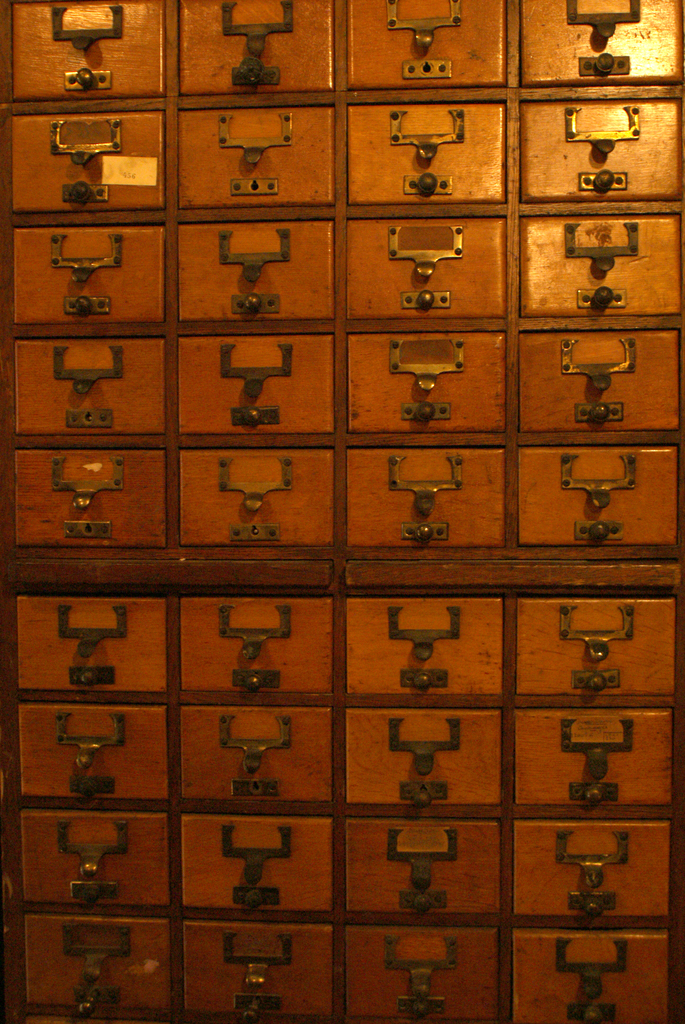cabinet door: (515, 593, 676, 704), (520, 442, 675, 556), (515, 98, 679, 203), (352, 219, 504, 329), (344, 704, 500, 811), (515, 819, 672, 924), (20, 801, 170, 907), (23, 909, 170, 1017), (350, 329, 505, 430), (520, 330, 676, 430), (511, 710, 672, 806), (523, 222, 680, 317), (16, 594, 166, 693), (183, 596, 328, 698), (346, 821, 500, 917), (16, 117, 165, 216), (181, 819, 331, 917), (350, 599, 500, 697), (20, 700, 169, 798), (509, 934, 671, 1024), (179, 337, 329, 434), (186, 705, 330, 806), (343, 930, 497, 1024), (179, 105, 333, 198), (348, 110, 502, 201), (186, 922, 330, 1018), (348, 458, 505, 546), (17, 233, 164, 326), (186, 452, 327, 548), (10, 457, 167, 542), (180, 230, 333, 317), (12, 344, 163, 431), (182, 7, 331, 92), (16, 17, 162, 101), (523, 4, 676, 77), (352, 3, 504, 74)
handle: (594, 159, 615, 201), (593, 279, 615, 319), (241, 290, 264, 326), (416, 782, 437, 821), (416, 172, 437, 205), (415, 515, 433, 552), (240, 886, 263, 913), (74, 178, 92, 212), (415, 280, 433, 314), (77, 67, 97, 97), (245, 64, 261, 100), (79, 998, 101, 1024), (591, 400, 611, 428), (416, 404, 433, 434), (411, 892, 432, 916), (593, 523, 610, 552), (78, 670, 101, 690), (595, 50, 614, 74), (412, 670, 431, 694), (245, 400, 261, 428), (245, 668, 261, 695), (74, 296, 92, 319), (586, 896, 601, 923), (591, 668, 605, 695), (587, 779, 600, 802)
